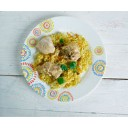briyani: (36, 35, 89, 84)
